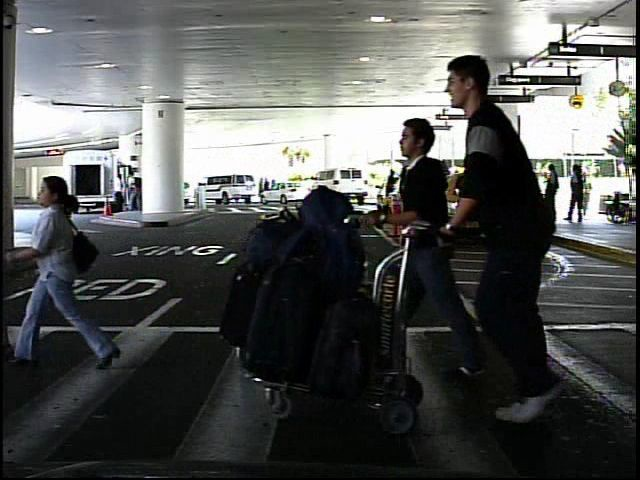person: (450, 47, 572, 424), (367, 113, 482, 391), (12, 157, 119, 382), (582, 170, 601, 219), (114, 173, 125, 213)
